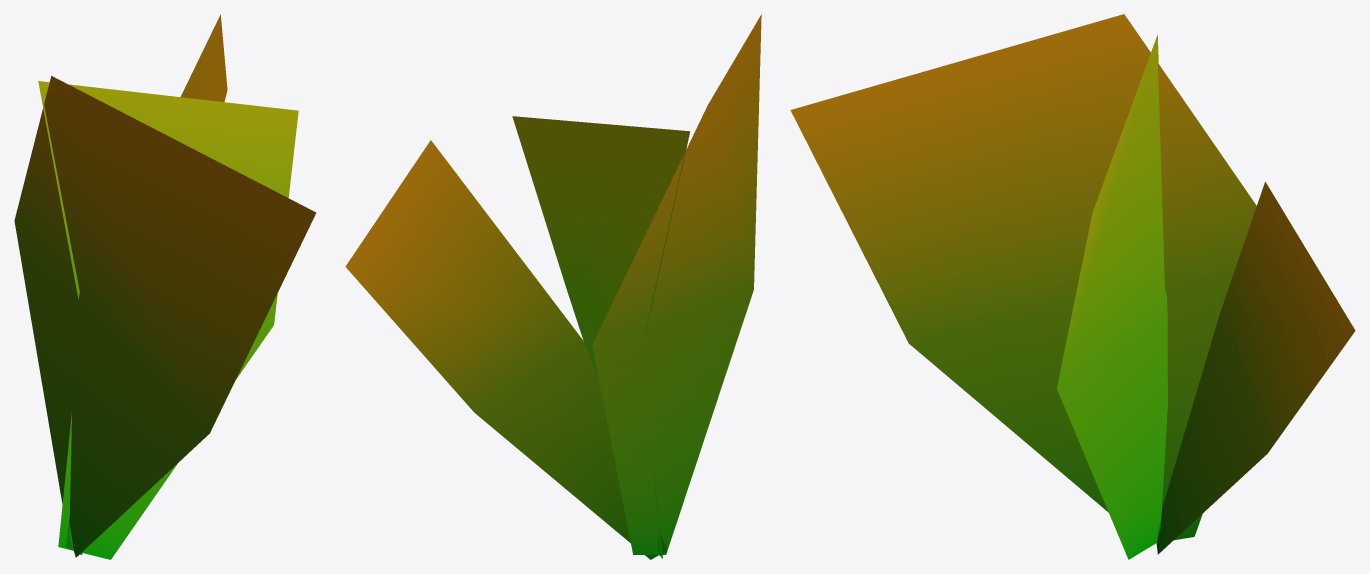
Rendered from Ocean Seaweed_LOD1_Var3_sdDkn.fbx.
3 views of the same model, side by side, from view 1: azimuth 30°, elevation 25°; view 2: azimuth 150°, elevation 25°; view 3: azimuth 270°, elevation 25° (orthographic). The views are drawn at different scales.
Parts seen in each view (by area): view 1: _e85a_Var3_LOD1; view 2: _e85a_Var3_LOD1; view 3: _e85a_Var3_LOD1.
Part boxes in pixels (x1,y1,x2,y2): _e85a_Var3_LOD1: [14, 14, 316, 559]; _e85a_Var3_LOD1: [345, 14, 761, 559]; _e85a_Var3_LOD1: [790, 14, 1355, 559].
Size of the model in its own units: 18.32 by 30.5 by 30.21.
